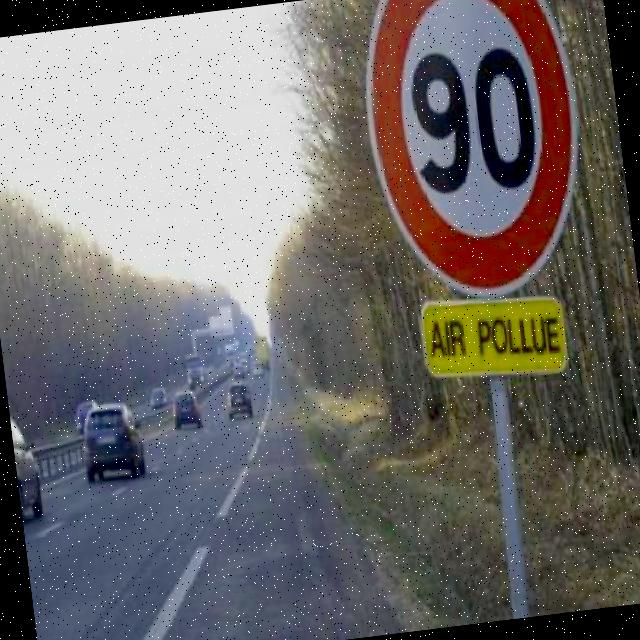Ograniczenie predkosci do 90: (359, 0, 590, 306)
